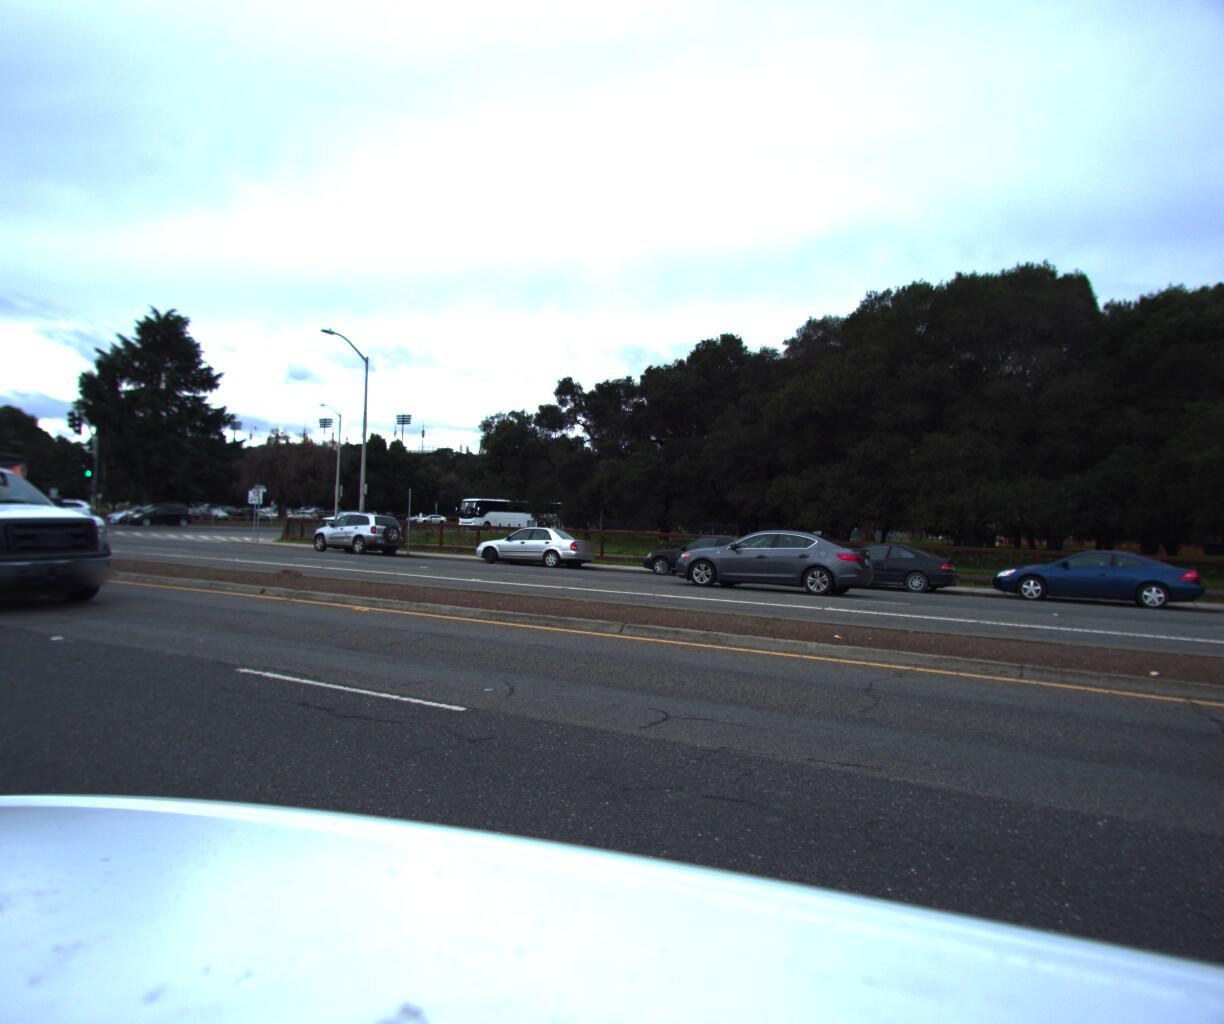bus: (453, 491, 568, 526)
car: (665, 514, 890, 594), (985, 536, 1216, 613), (785, 532, 966, 594), (630, 525, 789, 583), (466, 517, 603, 567), (309, 506, 411, 555), (10, 490, 100, 521), (121, 497, 199, 524), (103, 501, 170, 522)
